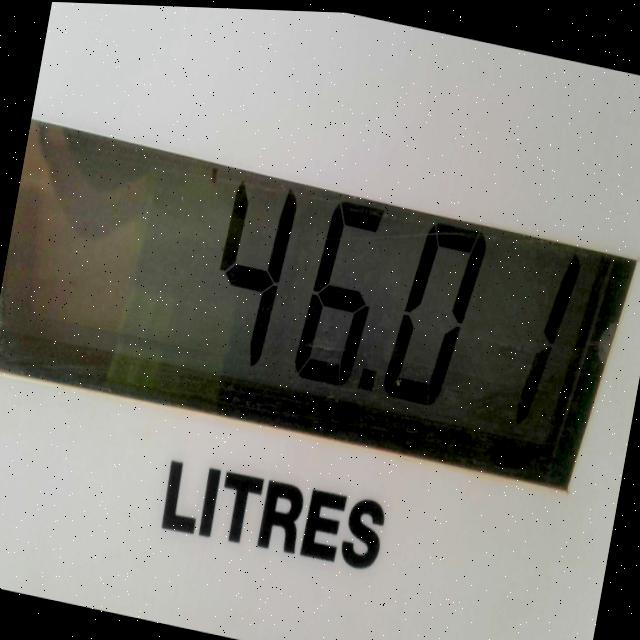.: (344, 343, 386, 420)
0: (378, 209, 495, 427)
4: (203, 169, 305, 378)
6: (292, 196, 386, 400)
